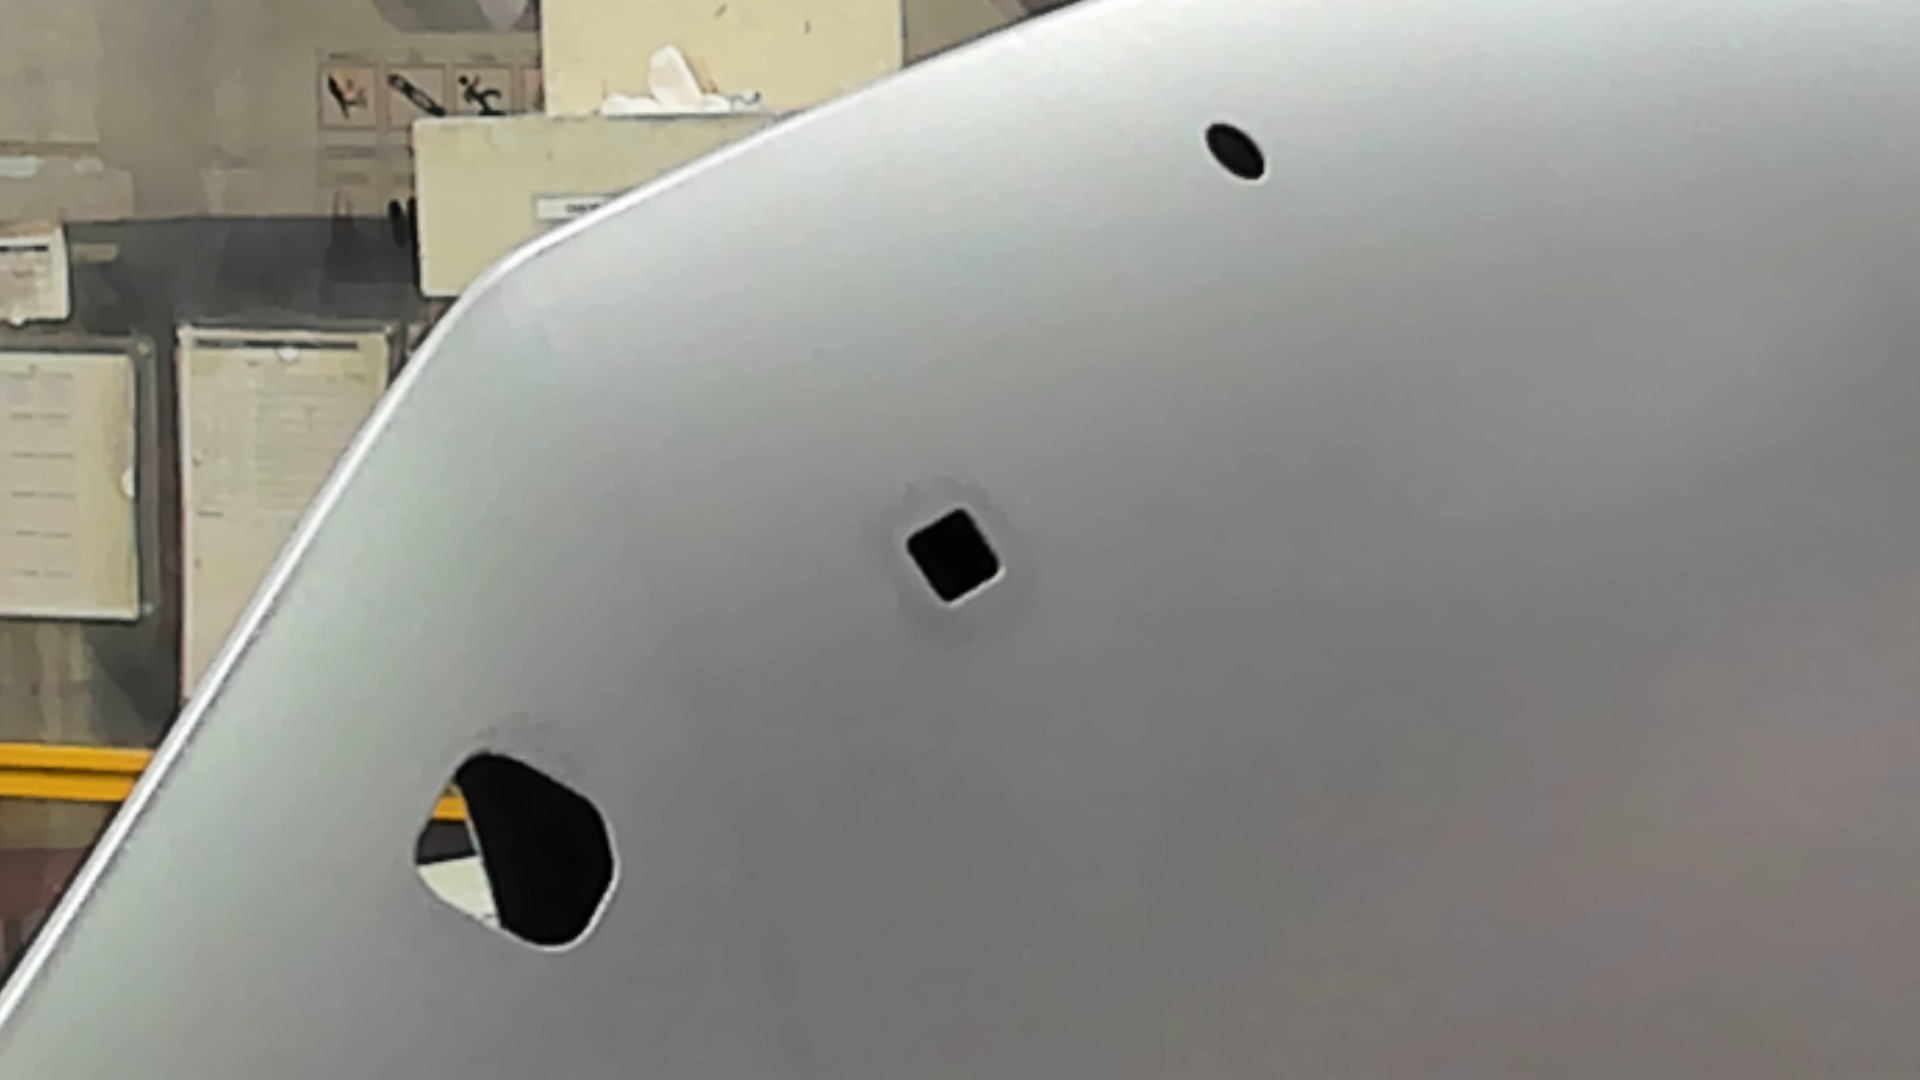chico: (1201, 117, 1270, 185)
grande: (406, 740, 626, 961)
mediano: (899, 498, 1010, 612)
